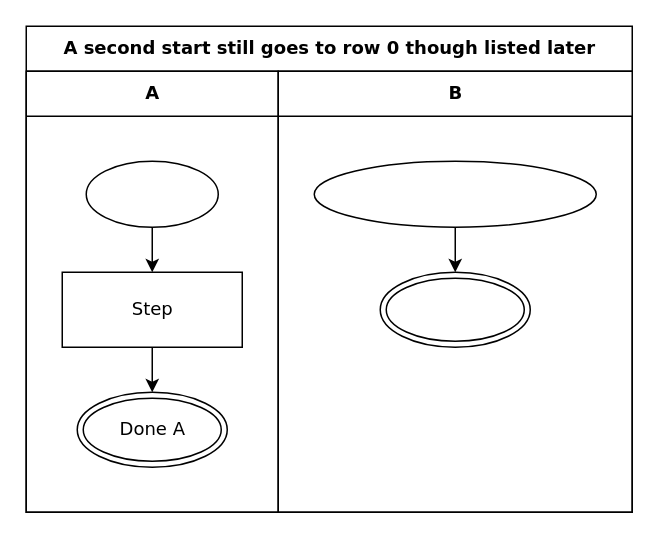
This 659x539 diagram has some shape labels left out. The shapes that lost their labels are listed below. From the top down, each one's centre as x and y in pixels, then its label:
At (x=151, y=193): "Enter A".
At (x=454, y=193): "Enter B, starts late".
At (x=454, y=309): "Done B".
